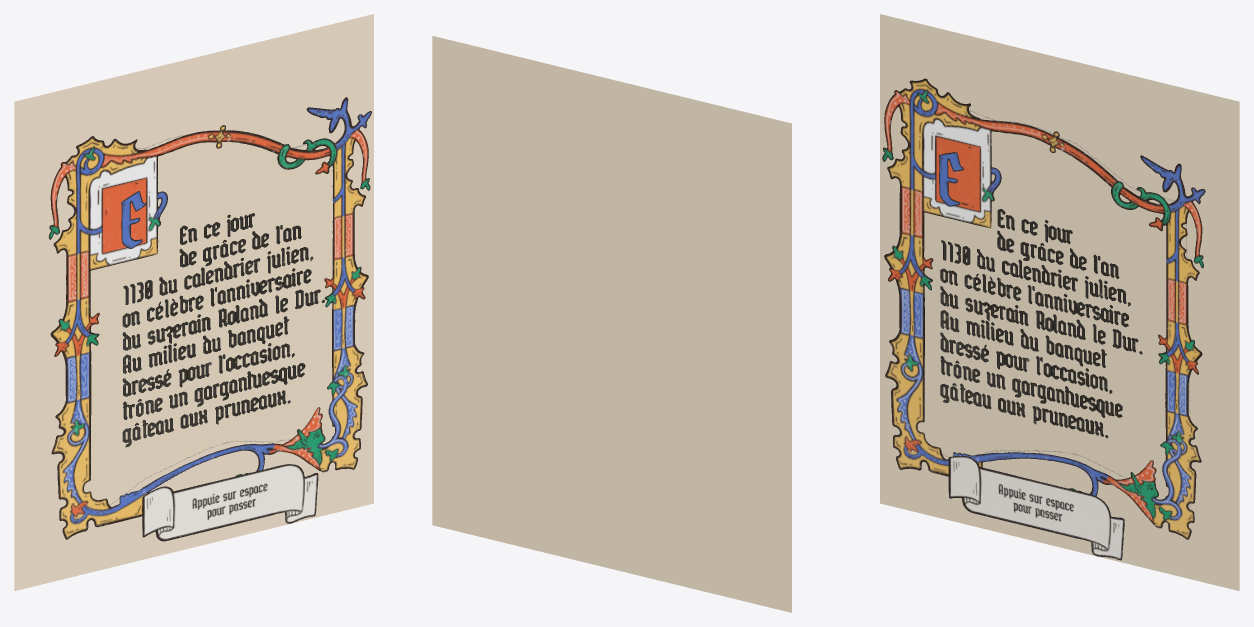
The model's file is cinematic_1.glb.
3 renders of one model, left to right at view 1: azimuth 30°, elevation 25°; view 2: azimuth 150°, elevation 25°; view 3: azimuth 330°, elevation 25°, orthographic.
Parts seen in each view (by area): view 1: scene, background; view 2: background; view 3: scene, background.
Part boxes in pixels (x1,y1,x2,y2): scene: (48, 97, 371, 541); background: (14, 14, 373, 590); background: (432, 36, 791, 612); scene: (882, 78, 1205, 560); background: (880, 14, 1239, 590).
Bounding box in the file's own units: 0.7686 × 1 × 0.11.
Materials: 2 (1 with a texture image).
